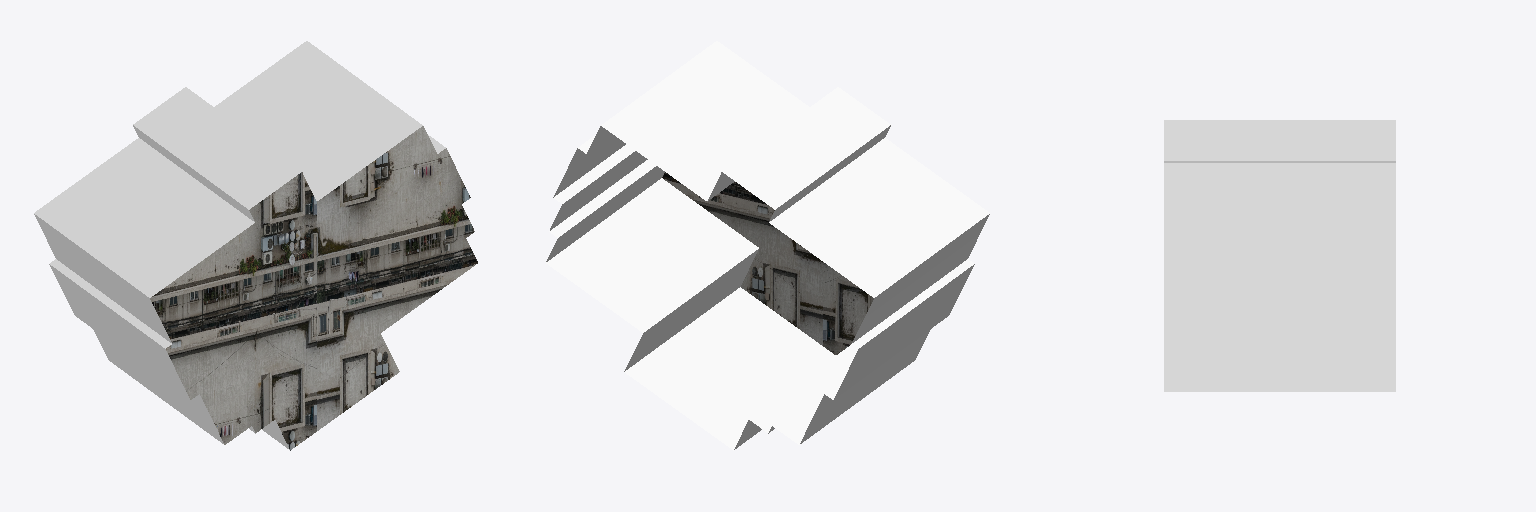
3 views of the same model, side by side, from view 1: azimuth 30°, elevation 25°; view 2: azimuth 150°, elevation 25°; view 3: azimuth 270°, elevation 25° (orthographic).
Visible parts, largest first — view 1: Building; view 2: Building; view 3: Building.
Boxes of the visible parts, x1=… form: Building: x1=34, y1=41, x2=477, y2=450; Building: x1=546, y1=41, x2=989, y2=450; Building: x1=1164, y1=120, x2=1395, y2=391.
Bounding box in the file's own units: 44.05 × 37.49 × 27.
2 materials, 1 textured.